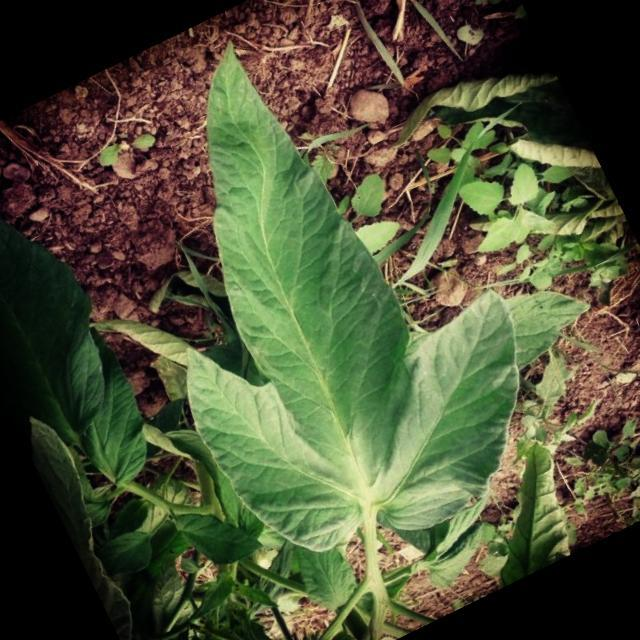Tomato healthy leaf: (181, 43, 521, 553), (0, 119, 142, 460), (36, 319, 168, 492), (172, 486, 267, 581)
